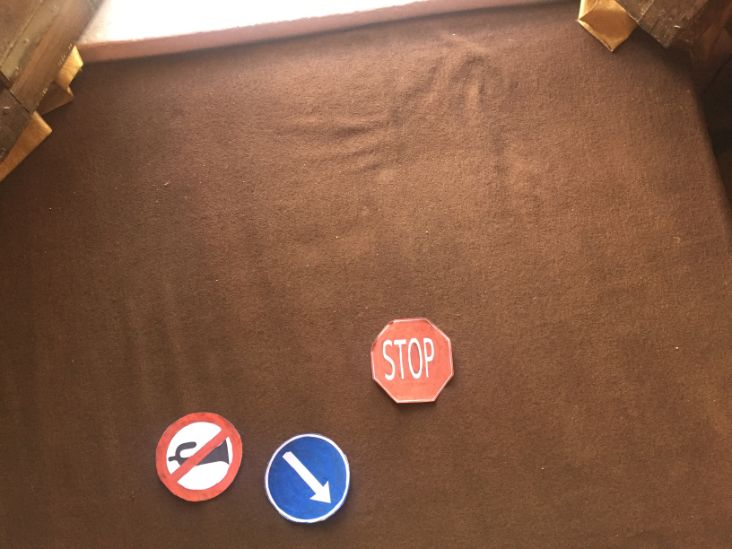go-stright: (264, 433, 348, 522)
no-horn: (155, 411, 242, 505)
stop: (371, 321, 455, 404)
